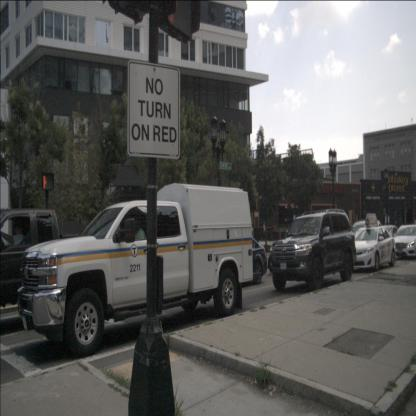human-pedestrian-adult: (263, 220, 266, 241)
vehicle-car: (18, 182, 253, 358), (268, 211, 356, 291), (197, 236, 268, 284), (346, 226, 396, 272), (346, 220, 399, 255), (390, 223, 416, 260), (378, 225, 402, 247)
vehicle-truck: (0, 208, 107, 329)
